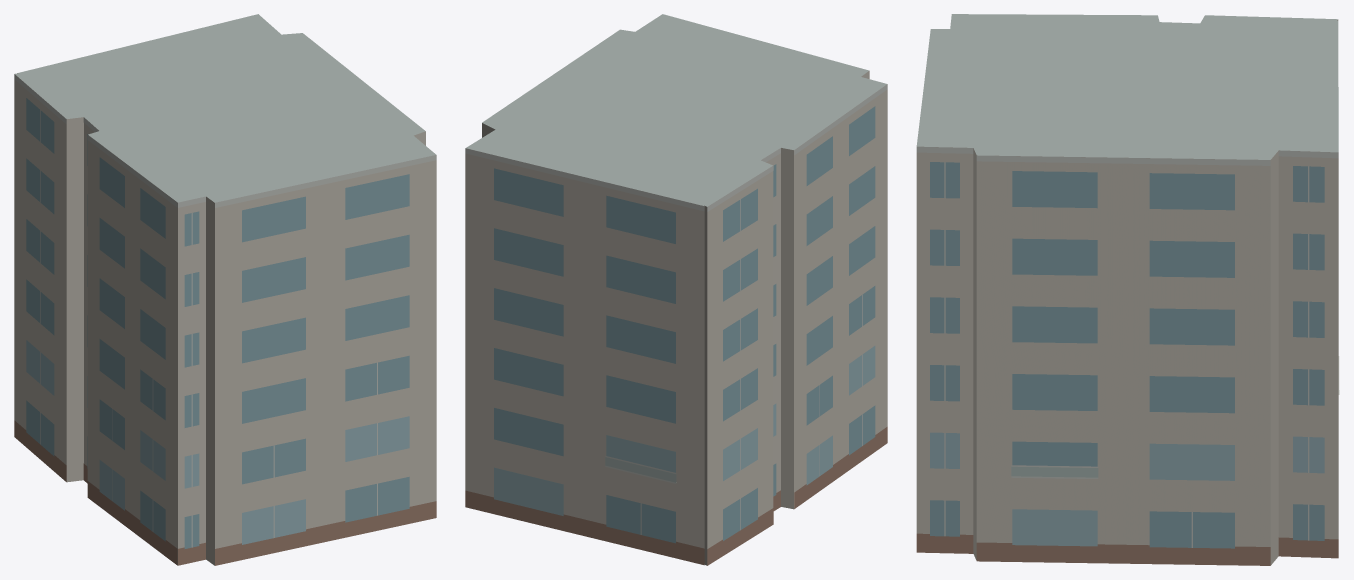
Rendered from survey-upis-32736203.glb.
The picture shows the model from 3 angles, left to right: view 1: azimuth 30°, elevation 25°; view 2: azimuth 150°, elevation 25°; view 3: azimuth 270°, elevation 25°; orthographic projection. The views are drawn at different scales.
Parts seen in each view (by area): view 1: survey-upis-32736203.tmp; view 2: survey-upis-32736203.tmp; view 3: survey-upis-32736203.tmp.
Boxes of the visible parts, x1,y1,x2,y2 form: survey-upis-32736203.tmp: (14, 14, 436, 565); survey-upis-32736203.tmp: (465, 14, 887, 565); survey-upis-32736203.tmp: (916, 14, 1339, 565).
Bounding box in the file's own units: 12.81 × 16.6 × 15.68.
